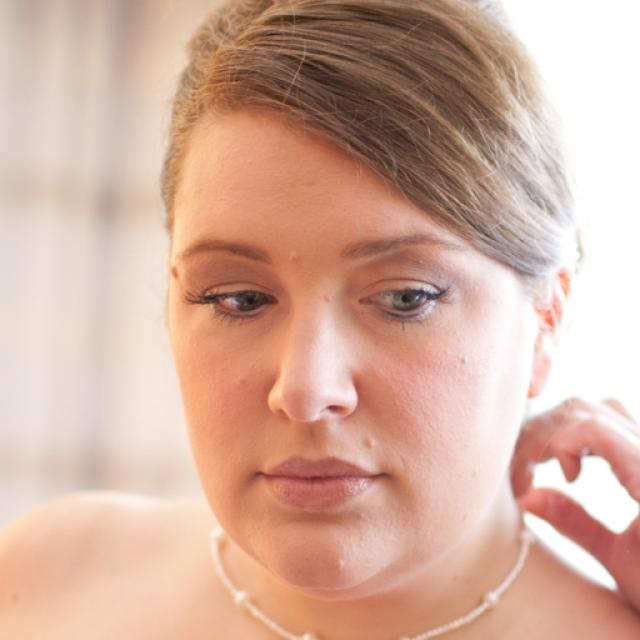Acne: (323, 552, 352, 574), (448, 353, 476, 371), (281, 248, 307, 266), (355, 433, 381, 450), (229, 373, 254, 389), (349, 510, 372, 527)
